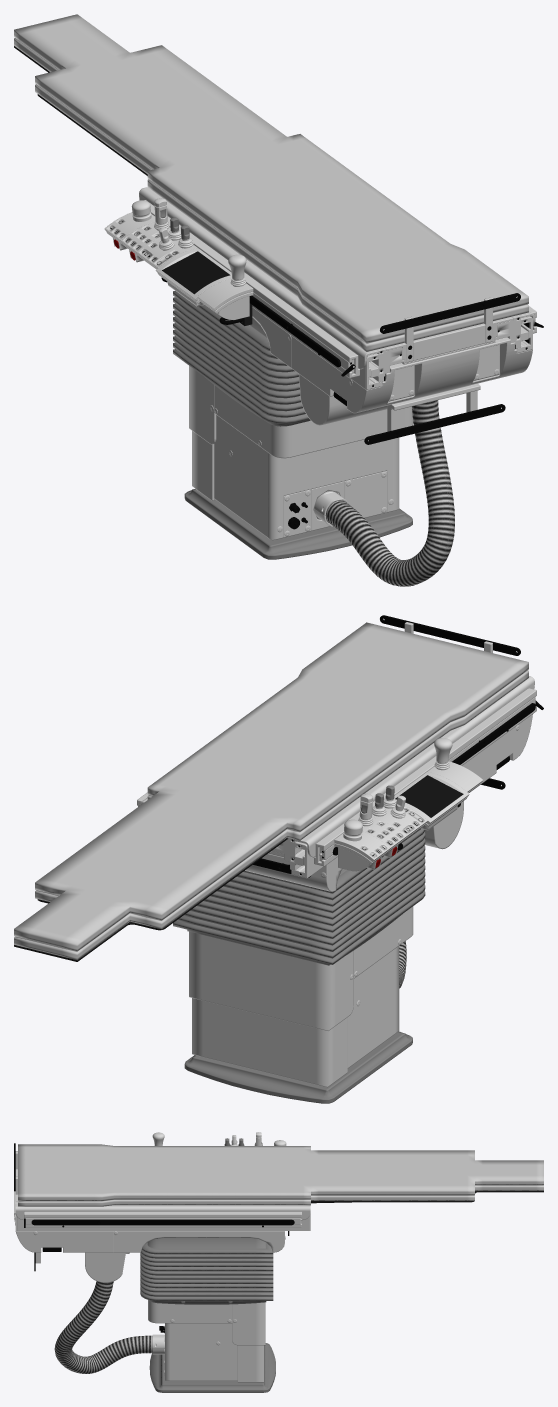
3 views of the same model, one above another, from view 1: azimuth 30°, elevation 25°; view 2: azimuth 150°, elevation 25°; view 3: azimuth 270°, elevation 25° (orthographic). The views are drawn at different scales.
Visible parts, largest first — view 1: Bed, Foam, Control_Panel, Hose_Geometry_05; view 2: Foam, Bed, Control_Panel; view 3: Bed, Foam, Hose_Geometry_05, Control_Panel.
Boxes of the visible parts, <box> form: Bed: <box>14,46,543,559</box>; Foam: <box>14,14,528,351</box>; Control_Panel: <box>104,198,253,325</box>; Hose_Geometry_05: <box>326,400,454,586</box>; Foam: <box>14,622,528,960</box>; Bed: <box>14,615,543,1103</box>; Control_Panel: <box>334,738,483,871</box>; Bed: <box>14,1143,543,1392</box>; Foam: <box>18,1144,543,1206</box>; Hose_Geometry_05: <box>54,1281,152,1373</box>; Control_Panel: <box>152,1132,286,1145</box>.
Bounding box in the file's own units: 0.9206 × 1.17 × 2.71.
